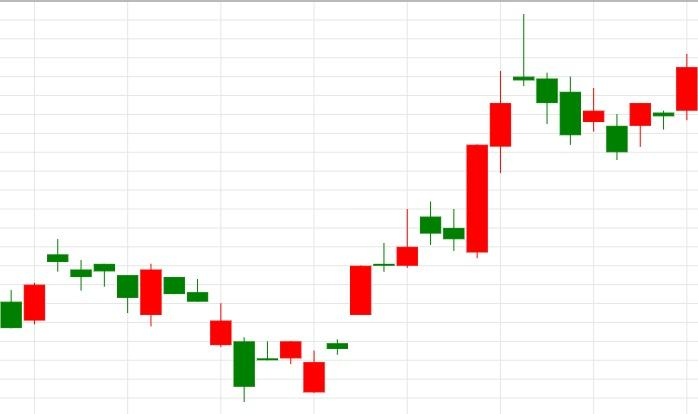evening_star_fall: (443, 15, 558, 258)
